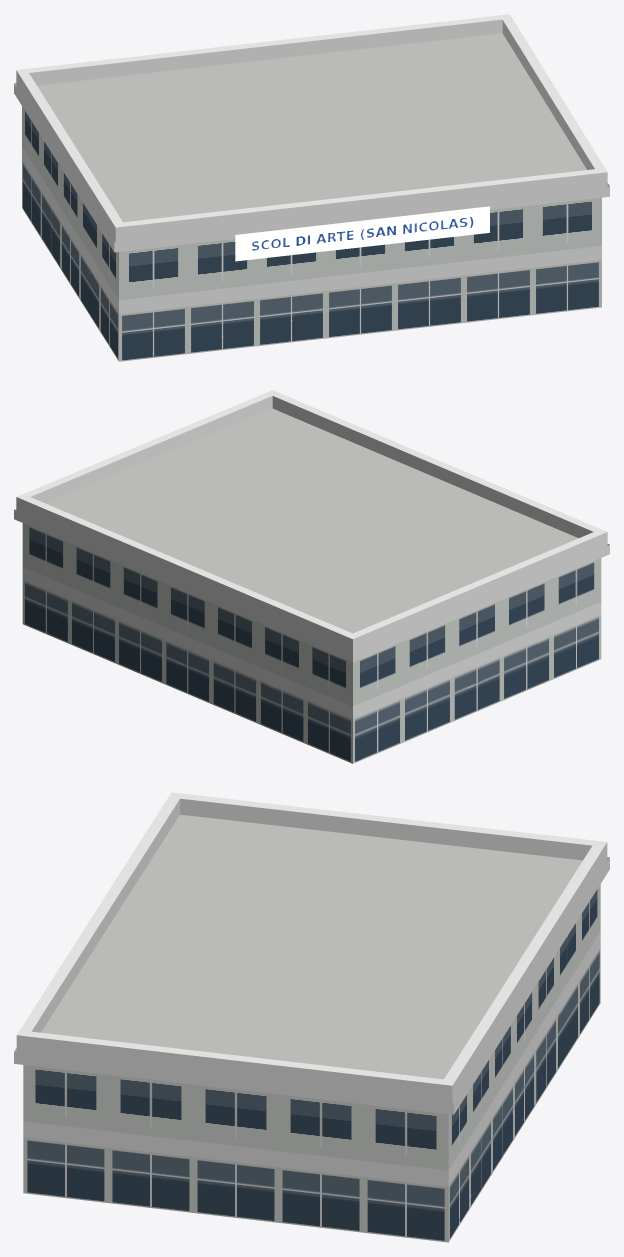
File: scoldiarte.glb
The picture shows the model from 3 angles, top to bottom: view 1: azimuth 30°, elevation 25°; view 2: azimuth 150°, elevation 25°; view 3: azimuth 270°, elevation 25°; orthographic projection. The views are drawn at different scales.
Visible parts, largest first — view 1: scoldiarte_lod0; view 2: scoldiarte_lod0; view 3: scoldiarte_lod0.
Part boxes in pixels (x1,y1,x2,y2): scoldiarte_lod0: (14, 14, 609, 361); scoldiarte_lod0: (14, 390, 609, 763); scoldiarte_lod0: (14, 792, 609, 1242).
Size of what is drawn, in the model's own units: 31.76 by 8 by 27.06.
5 materials, 3 textured.
